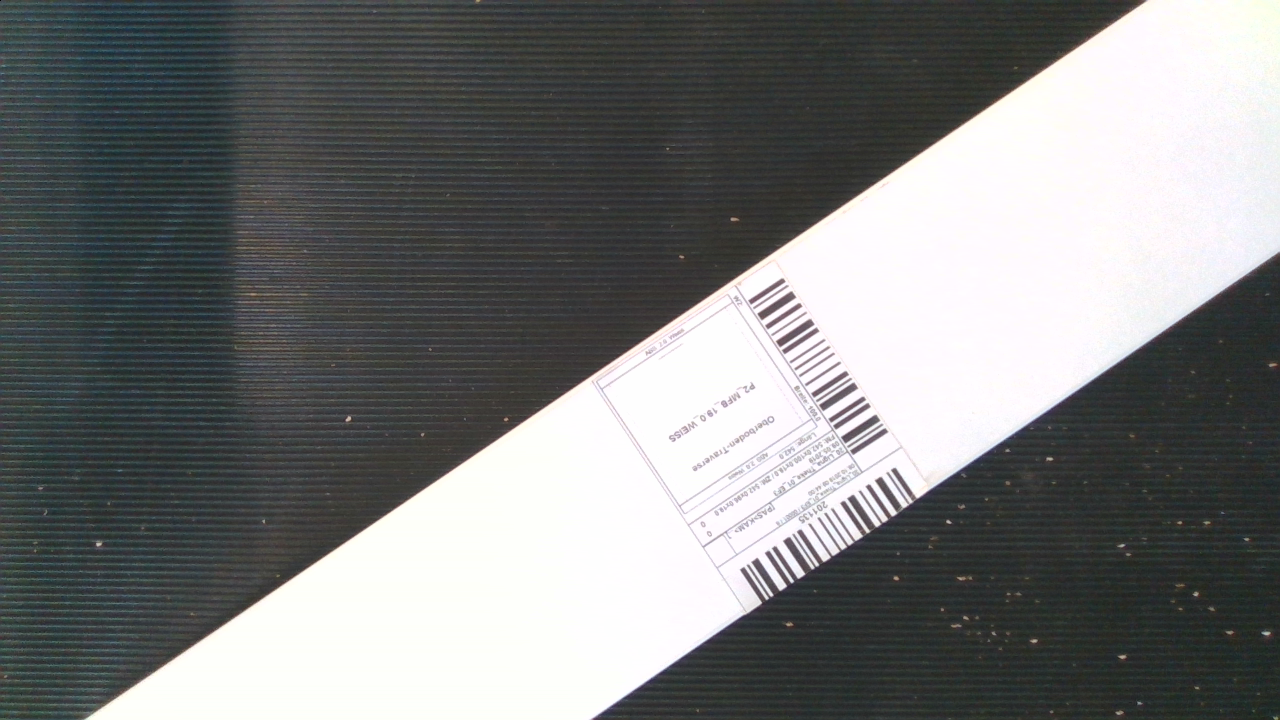barcode: (587, 261, 930, 612)
